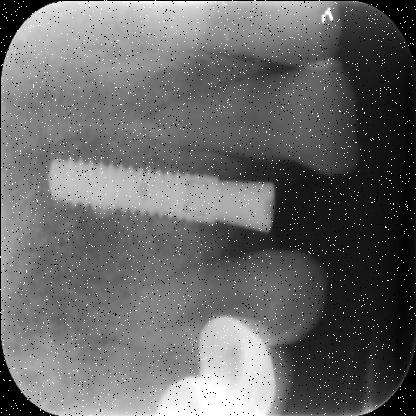ITI: (43, 150, 225, 231)
